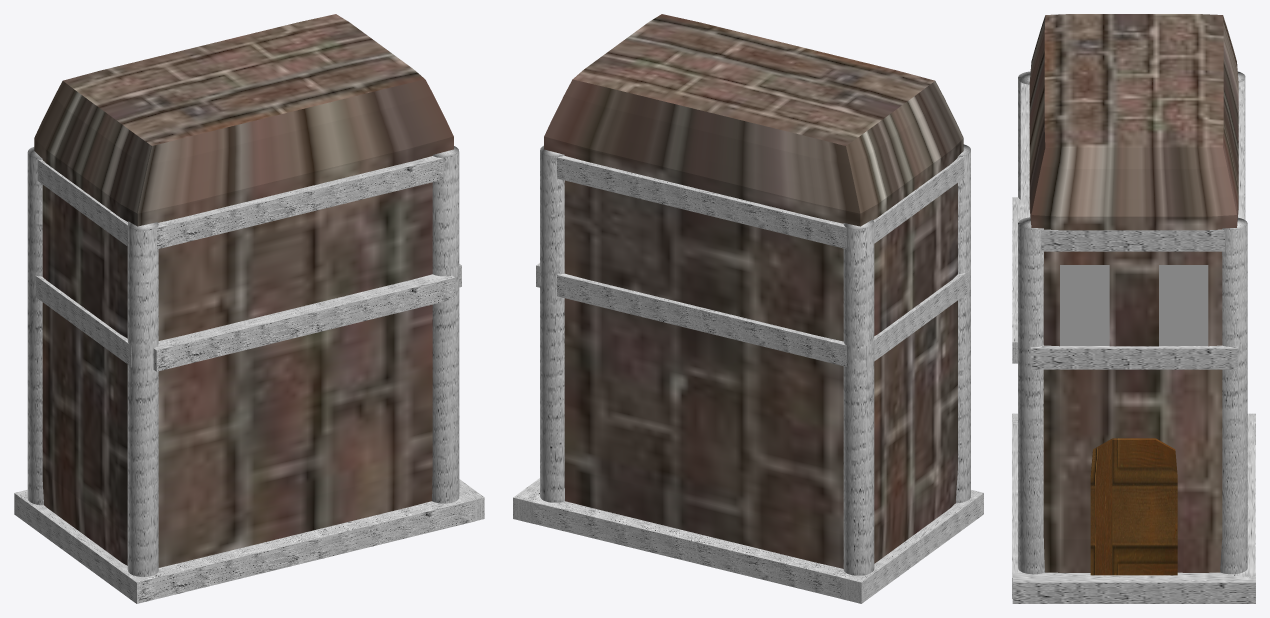
The model's file is city house6.fbx.
3 views of the same model, side by side, from view 1: azimuth 30°, elevation 25°; view 2: azimuth 150°, elevation 25°; view 3: azimuth 270°, elevation 25° (orthographic).
Parts seen in each view (by area): view 1: Cube, Cylinder.003, Cube.003, Cube.008, Cylinder.002, Cube.013, Cylinder.004, Cube.004, Cube.014, Cube.010; view 2: Cube, Cylinder.004, Cube.009, Cylinder.001, Cube.002, Cube.012, Cylinder.003, Cube.004, Cube.014, Cube.010, Cube.001; view 3: Cube, Cube.007, Cylinder.002, Cylinder.001, Cube.001, Cube.005, Cube.006, Plane, Plane.001, Cube.009, Cube.013, Cube.008 (+4 smaller).
Boxes of the visible parts, x1=… form: Cube: x1=34, y1=14, x2=453, y2=567; Cylinder.003: x1=127, y1=221, x2=158, y2=576; Cube.003: x1=134, y1=499, x2=474, y2=603; Cube.008: x1=153, y1=274, x2=454, y2=371; Cylinder.002: x1=432, y1=146, x2=459, y2=503; Cube.013: x1=157, y1=156, x2=443, y2=249; Cylinder.004: x1=27, y1=147, x2=43, y2=505; Cube.004: x1=14, y1=489, x2=143, y2=603; Cube.014: x1=35, y1=276, x2=131, y2=367; Cube.010: x1=37, y1=159, x2=127, y2=246; Cube: x1=544, y1=14, x2=963, y2=568; Cylinder.004: x1=843, y1=219, x2=874, y2=575; Cube.009: x1=524, y1=491, x2=872, y2=598; Cylinder.001: x1=540, y1=145, x2=564, y2=502; Cube.002: x1=557, y1=156, x2=846, y2=249; Cube.012: x1=557, y1=273, x2=846, y2=366; Cylinder.003: x1=956, y1=144, x2=970, y2=503; Cube.004: x1=841, y1=490, x2=983, y2=603; Cube.014: x1=866, y1=270, x2=970, y2=367; Cube.010: x1=873, y1=157, x2=964, y2=243; Cube.001: x1=513, y1=478, x2=539, y2=523; Cube: x1=1029, y1=14, x2=1238, y2=572; Cube.007: x1=1090, y1=438, x2=1177, y2=575; Cylinder.002: x1=1018, y1=217, x2=1044, y2=574; Cylinder.001: x1=1220, y1=217, x2=1247, y2=574; Cube.001: x1=1012, y1=572, x2=1255, y2=603; Cube.005: x1=1030, y1=345, x2=1237, y2=369; Cube.006: x1=1040, y1=229, x2=1224, y2=251; Plane: x1=1060, y1=265, x2=1109, y2=345; Plane.001: x1=1159, y1=265, x2=1208, y2=345; Cube.009: x1=1232, y1=413, x2=1255, y2=577; Cube.013: x1=1020, y1=82, x2=1030, y2=219; Cube.008: x1=1012, y1=197, x2=1020, y2=363.
Size of the model in its own units: 1479 by 1791 by 901.
